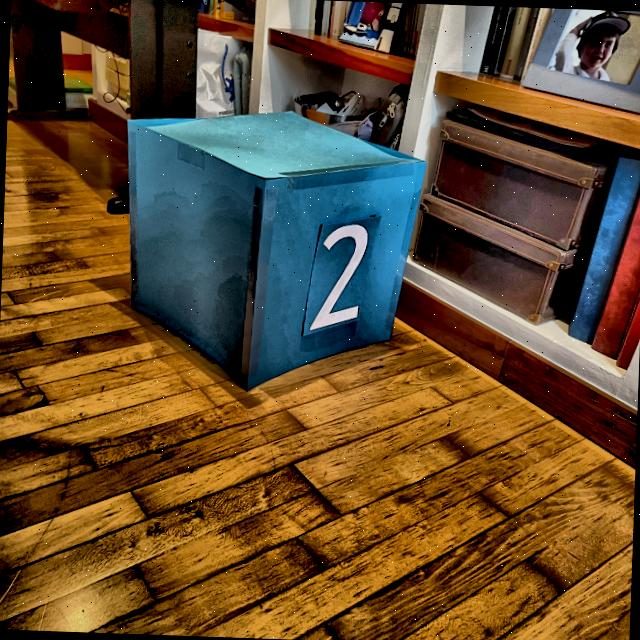blue box: (116, 101, 428, 402)
two: (303, 216, 372, 336)
